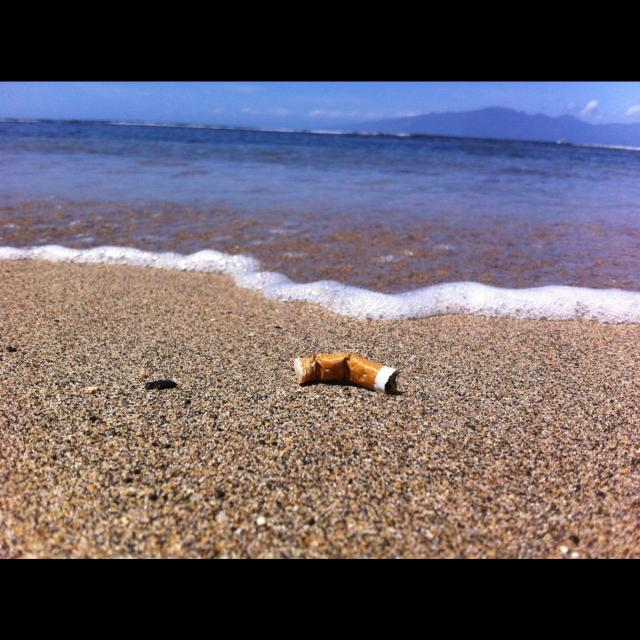cigarette: (293, 354, 400, 392)
